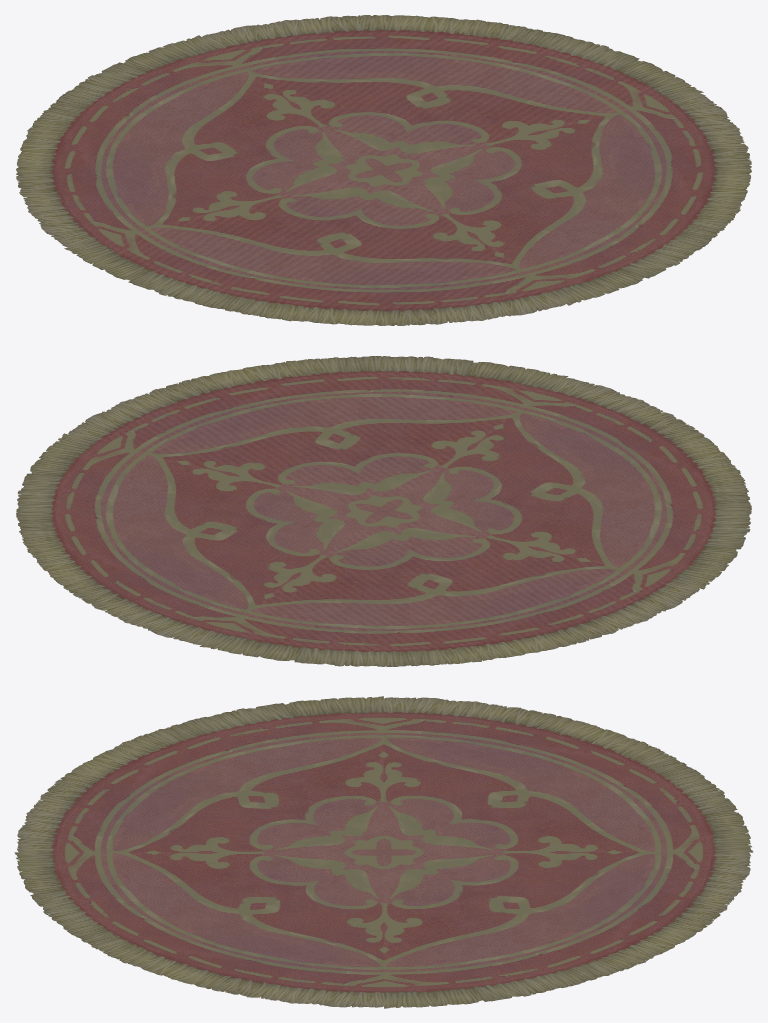
The model's file is Homeworld_Interior_Md_Carpet_Prop_CatTavern_01_Vo.fbx.
3 views of the same model, one above another, from view 1: azimuth 30°, elevation 25°; view 2: azimuth 150°, elevation 25°; view 3: azimuth 270°, elevation 25° (orthographic).
Parts seen in each view (by area): view 1: Indoor_Md_Prop_Carpet_01_Vo; view 2: Indoor_Md_Prop_Carpet_01_Vo; view 3: Indoor_Md_Prop_Carpet_01_Vo.
Part boxes in pixels (box(x1,y1,x2,y2)): Indoor_Md_Prop_Carpet_01_Vo: box(16, 15, 751, 325); Indoor_Md_Prop_Carpet_01_Vo: box(16, 356, 751, 666); Indoor_Md_Prop_Carpet_01_Vo: box(14, 696, 753, 1008).
Bounding box in the file's own units: 4.19 × 1.83e-07 × 4.19.
